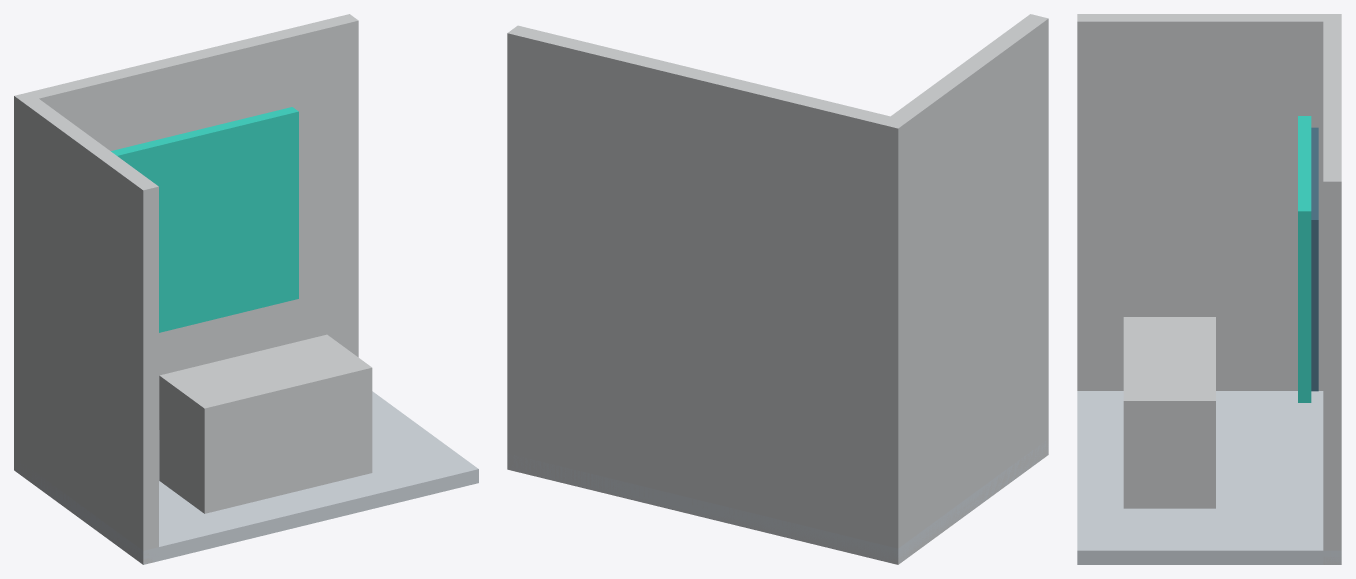
3 renders of one model, left to right at view 1: azimuth 30°, elevation 25°; view 2: azimuth 150°, elevation 25°; view 3: azimuth 270°, elevation 25°, orthographic. The views are drawn at different scales.
Parts seen in each view (by area): view 1: Exhibition Booth Concept; view 2: Exhibition Booth Concept; view 3: Exhibition Booth Concept.
Part boxes in pixels (bbox=[...]): Exhibition Booth Concept: bbox=[14, 14, 478, 564]; Exhibition Booth Concept: bbox=[507, 14, 1048, 564]; Exhibition Booth Concept: bbox=[1077, 14, 1341, 564].
Size of the model in its own units: 3 by 3.2 by 2.
